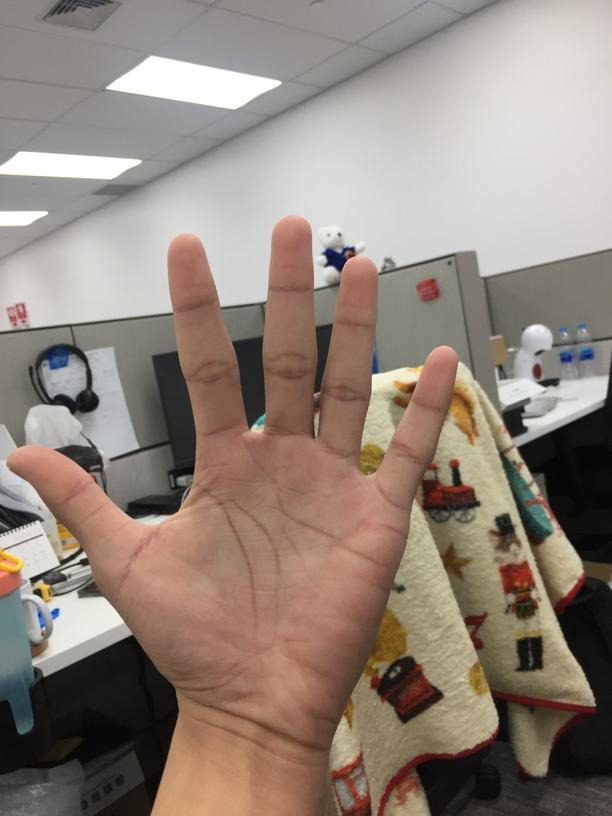hand: (8, 213, 458, 742)
